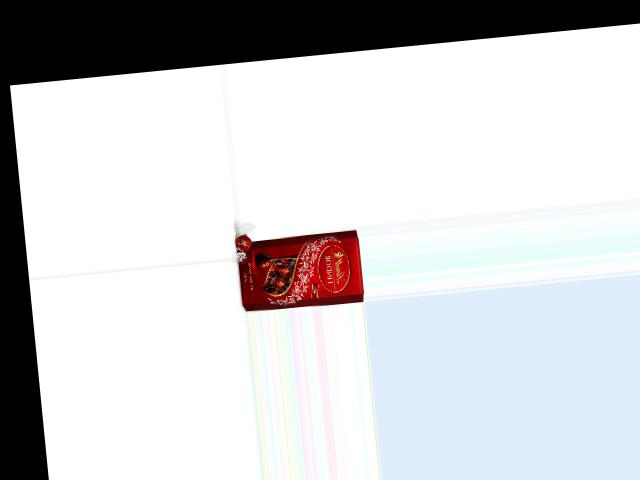chocolate: (235, 222, 364, 312)
